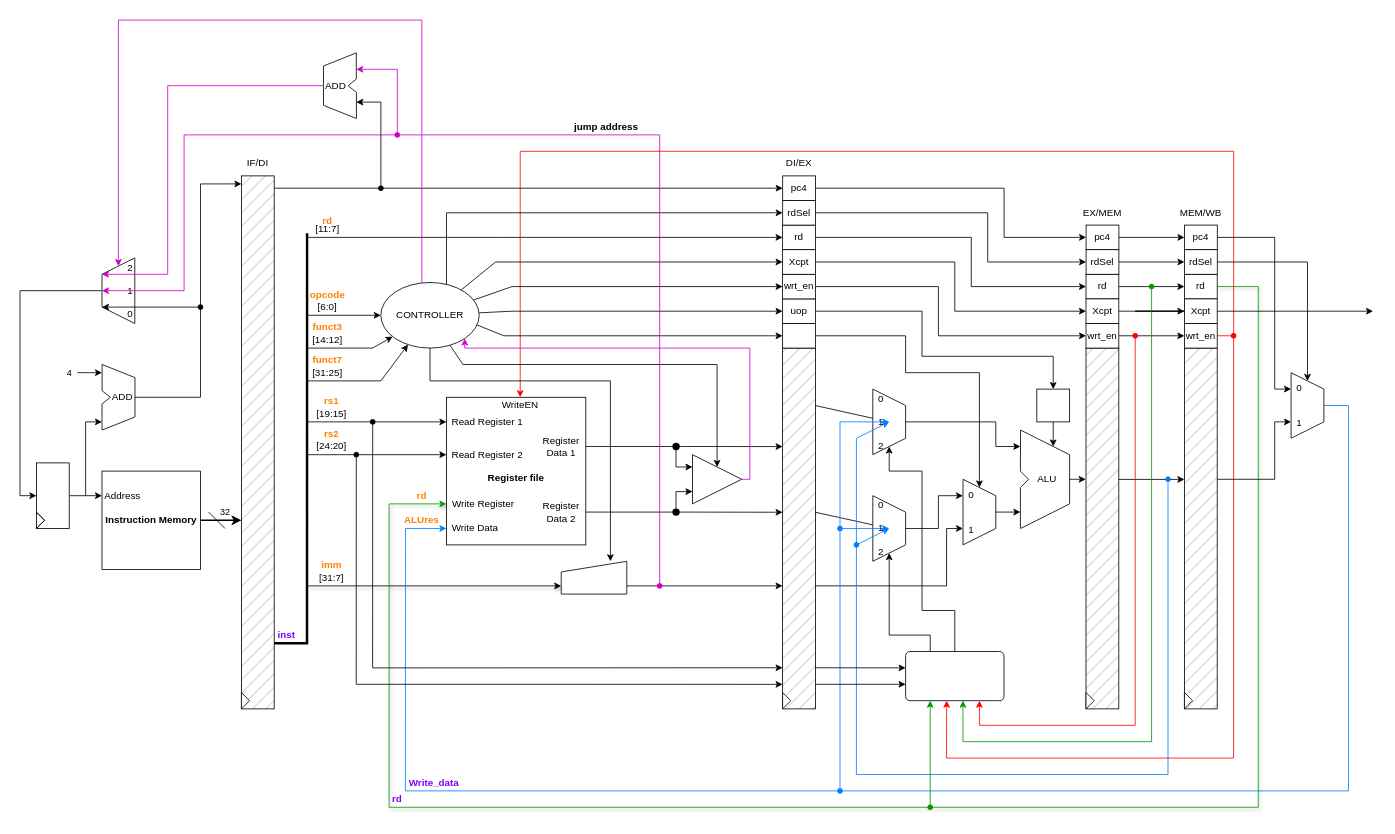
Some shapes in this 1395 by 834 pixel diagram are drawn without their labels. The shapes that lost their labels are listed below. From the top down, each one's centre as x and y in pixels, then its label:
(798,335): ALUsrc
(1053,405): ALU control
(52,495): PC
(717,479): Comp
(593,577): Sign extend
(954,676): ForwardUnit
